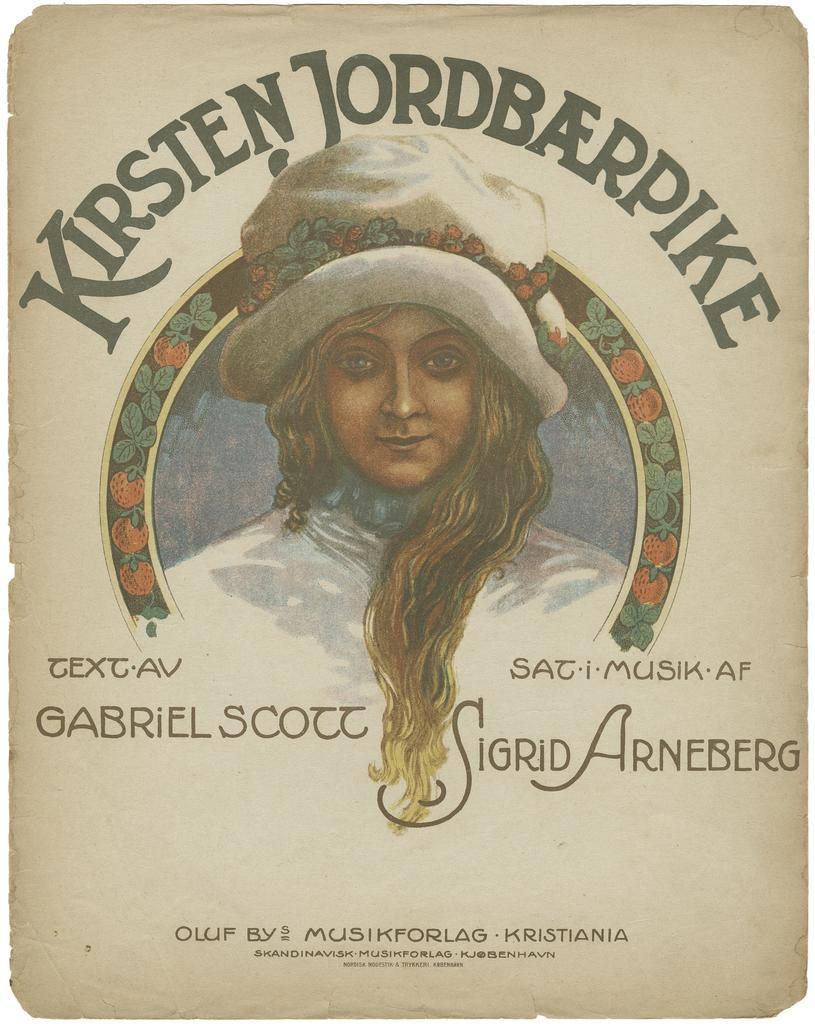Hat: (219, 132, 570, 420)
